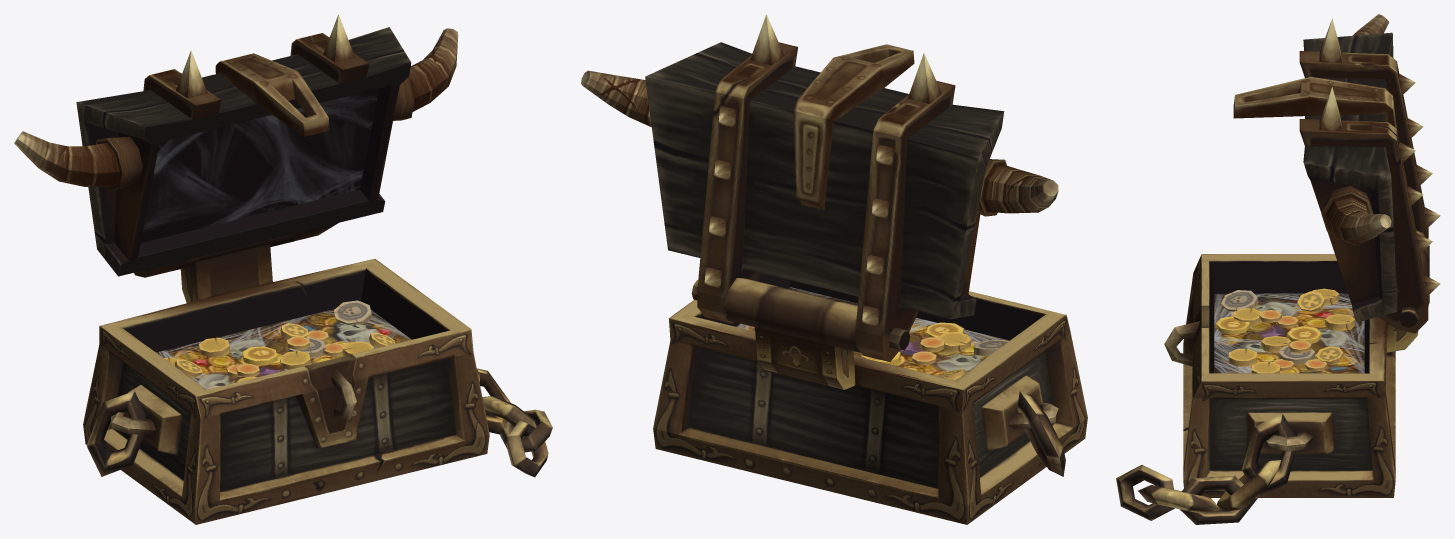
Rendered from Chest_2_gems.FBX.
3 renders of one model, left to right at view 1: azimuth 30°, elevation 25°; view 2: azimuth 150°, elevation 25°; view 3: azimuth 270°, elevation 25°, orthographic. The views are drawn at different scales.
Visible parts, largest first — view 1: Chest_2, Chest_2_cap; view 2: Chest_2_cap, Chest_2; view 3: Chest_2, Chest_2_cap.
Boxes of the visible parts, <box> form: Chest_2: <box>83,233,552,524</box>; Chest_2_cap: <box>14,14,458,277</box>; Chest_2_cap: <box>581,14,1058,361</box>; Chest_2: <box>653,273,1087,524</box>; Chest_2: <box>1116,230,1429,524</box>; Chest_2_cap: <box>1233,14,1440,333</box>.
Size of the model in its own units: 143 by 124 by 95.33.
